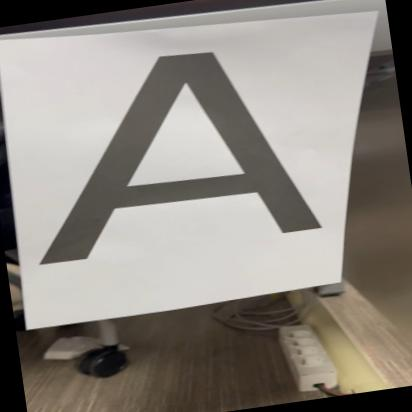seat: (9, 28, 331, 268)
